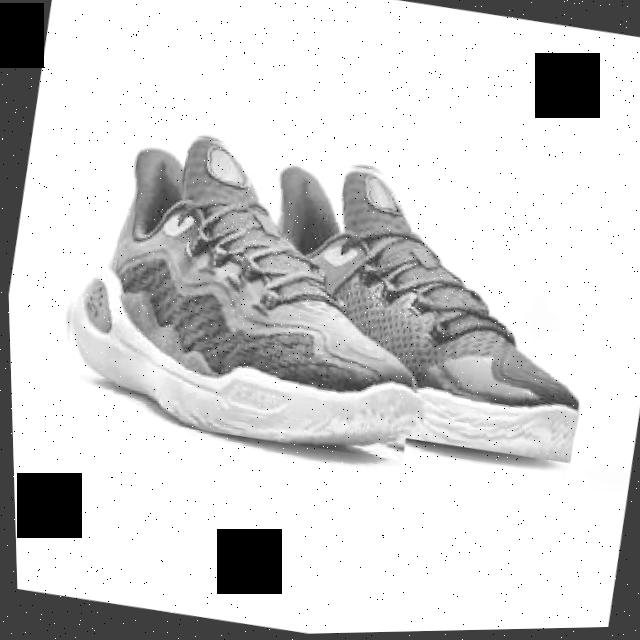shoe: (42, 112, 449, 468), (207, 143, 613, 471)
